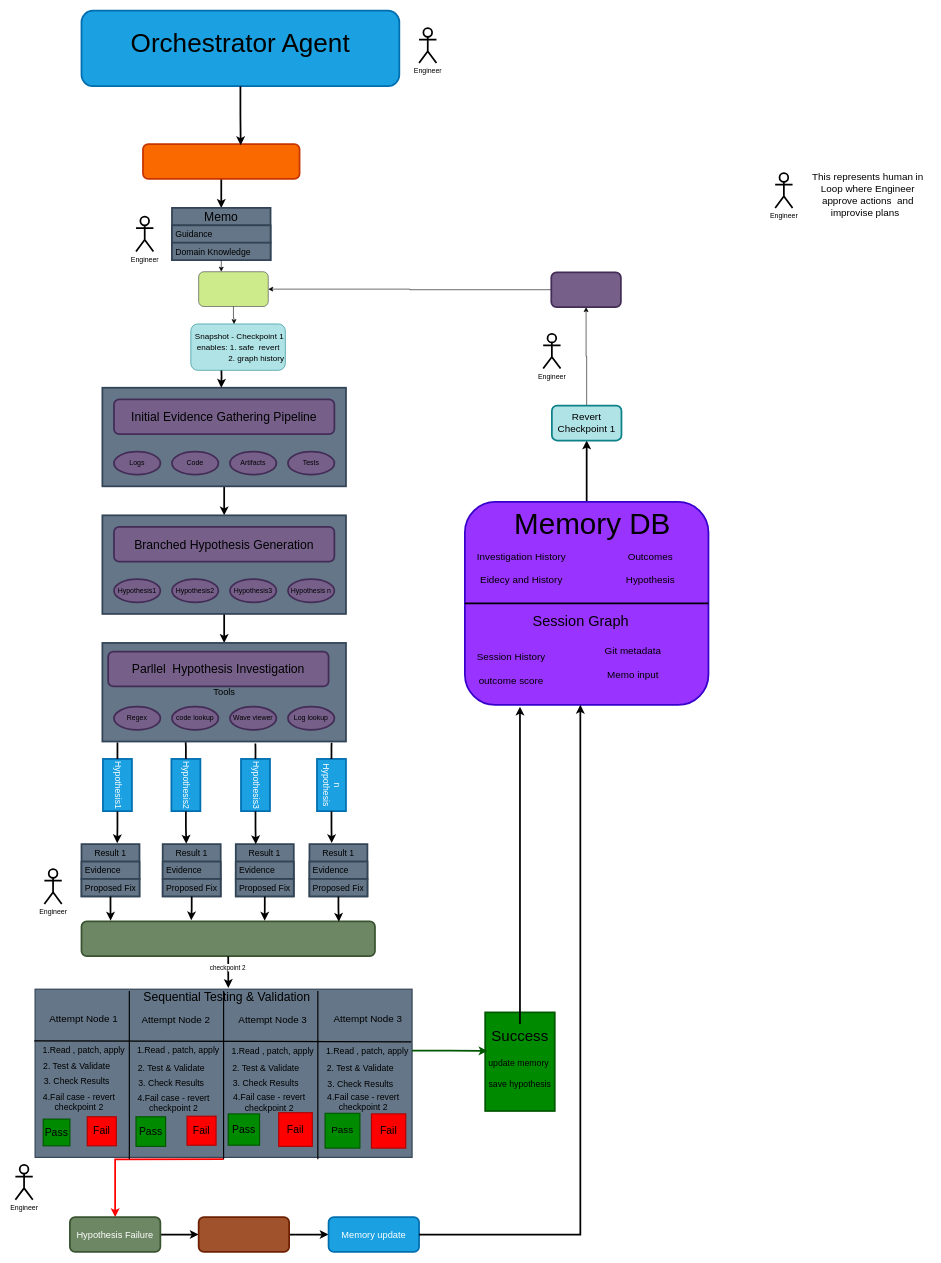
This 941x1263 diagram has some shape labels left out. The shapes that lost their labels are listed below. From the top down, each one's centre as x and y in pixels, then its label:
(221,161): Bug Module
(233,289): Session Intialize
(585,289): Memo Vn
(228,938): Analyze Report and Rerank Priortization score
(243,1234): Outcome Analysis
